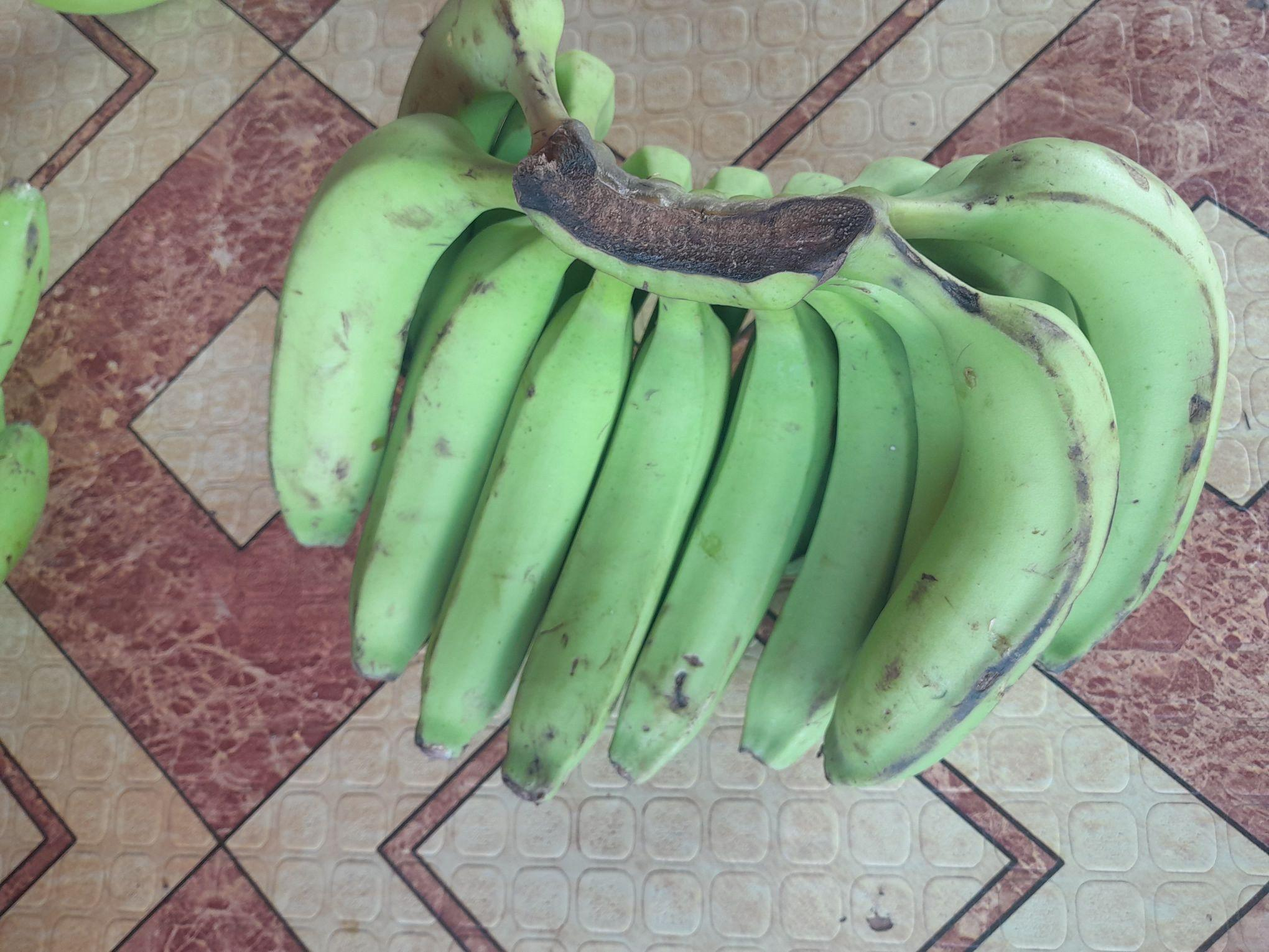Banana Unripe: (890, 139, 1227, 668), (825, 218, 1120, 785), (503, 298, 731, 801), (610, 302, 838, 781), (270, 114, 516, 545), (416, 273, 632, 756), (349, 216, 573, 679), (741, 288, 917, 769), (399, 0, 568, 150), (0, 181, 50, 381), (0, 389, 50, 581), (0, 424, 50, 584), (555, 50, 615, 139), (848, 156, 937, 196), (622, 146, 692, 191), (706, 166, 773, 198), (781, 171, 845, 196)
